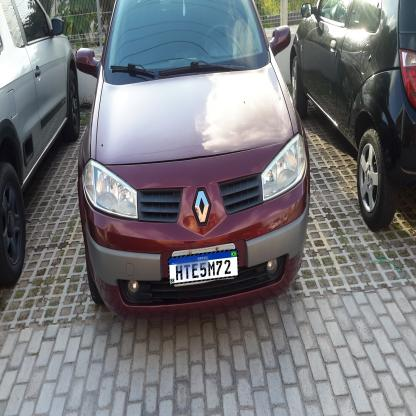PlacaM: (168, 249, 239, 285)
